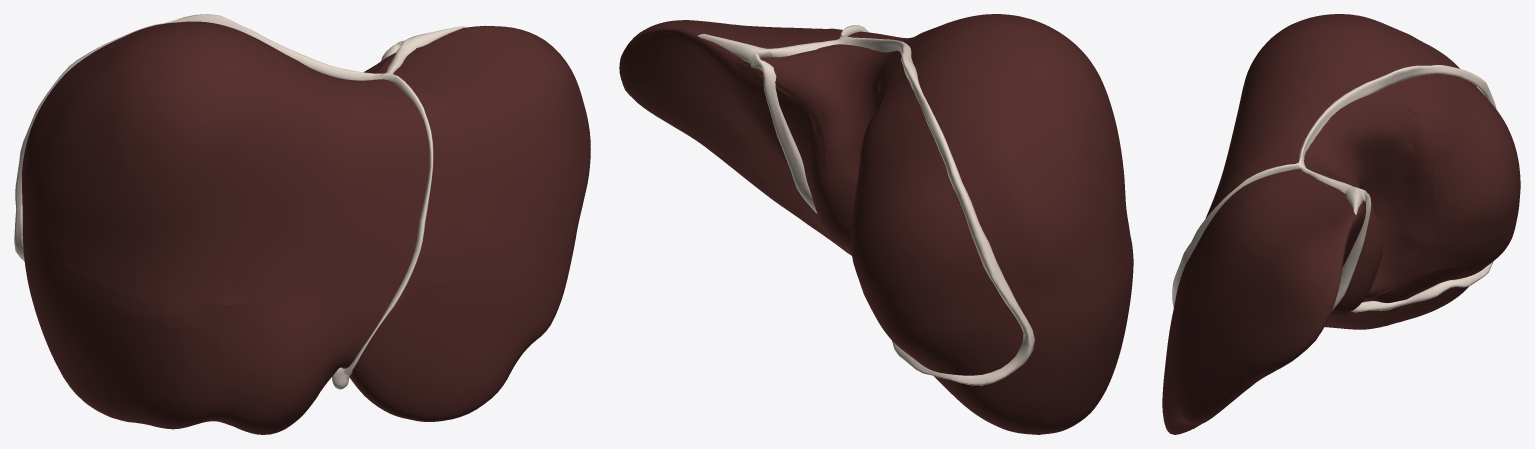
File: liver-female.glb
3 renders of one model, left to right at view 1: azimuth 30°, elevation 25°; view 2: azimuth 150°, elevation 25°; view 3: azimuth 270°, elevation 25°, orthographic. The views are drawn at different scales.
Visible parts, largest first — view 1: VH_F_capsule_of_the_liver, VH_F_left_superomedial_segment1, VH_F_left_inferomedial_segment, VH_F_right_anterosuperior_segment, VH_F_right_anteroinferior_segment, VH_F_coronary_ligament_of_liver, VH_F_left_superomedial_segment, VH_F_falciform_ligament; view 2: VH_F_capsule_of_the_liver, VH_F_bare_area_of_liver, VH_F_left_superomedial_segment, VH_F_coronary_ligament_of_liver, VH_F_diaphragmatic_surface_of_liver, VH_F_caudate_lobe, VH_F_right_posterosuperior_segment, VH_F_ligamentum_venosum, VH_F_gastric_impression_of_liver, VH_F_left_anterolateral_segment, VH_F_right_posteroinferior_segment, VH_F_right_anterosuperior_segment (+3 smaller); view 3: VH_F_capsule_of_the_liver, VH_F_bare_area_of_liver, VH_F_caudate_lobe, VH_F_coronary_ligament_of_liver, VH_F_left_superomedial_segment1, VH_F_right_posterosuperior_segment, VH_F_diaphragmatic_surface_of_liver, VH_F_left_superomedial_segment, VH_F_falciform_ligament, VH_F_ligamentum_venosum, VH_F_right_posteroinferior_segment, VH_F_suprarenal_impression_of_liver (+2 smaller).
Part boxes in pixels (left/top/right/bottom): VH_F_capsule_of_the_liver: left=22, top=21, right=590, bottom=434; VH_F_left_superomedial_segment1: left=222, top=55, right=433, bottom=305; VH_F_left_inferomedial_segment: left=208, top=284, right=398, bottom=433; VH_F_right_anterosuperior_segment: left=38, top=23, right=278, bottom=305; VH_F_right_anteroinferior_segment: left=39, top=264, right=223, bottom=426; VH_F_coronary_ligament_of_liver: left=14, top=14, right=413, bottom=261; VH_F_left_superomedial_segment: left=380, top=29, right=578, bottom=284; VH_F_falciform_ligament: left=344, top=73, right=433, bottom=375; VH_F_capsule_of_the_liver: left=619, top=14, right=1133, bottom=434; VH_F_bare_area_of_liver: left=749, top=47, right=1023, bottom=375; VH_F_left_superomedial_segment: left=622, top=22, right=840, bottom=178; VH_F_coronary_ligament_of_liver: left=767, top=36, right=1034, bottom=385; VH_F_diaphragmatic_surface_of_liver: left=619, top=30, right=996, bottom=425; VH_F_caudate_lobe: left=779, top=47, right=899, bottom=250; VH_F_right_posterosuperior_segment: left=851, top=61, right=1101, bottom=331; VH_F_ligamentum_venosum: left=751, top=53, right=817, bottom=213; VH_F_gastric_impression_of_liver: left=668, top=74, right=851, bottom=255; VH_F_left_anterolateral_segment: left=716, top=151, right=825, bottom=233; VH_F_right_posteroinferior_segment: left=866, top=299, right=1101, bottom=434; VH_F_right_anterosuperior_segment: left=897, top=30, right=1132, bottom=282; VH_F_capsule_of_the_liver: left=1162, top=14, right=1471, bottom=434; VH_F_bare_area_of_liver: left=1306, top=74, right=1520, bottom=299; VH_F_caudate_lobe: left=1305, top=98, right=1439, bottom=316; VH_F_coronary_ligament_of_liver: left=1298, top=65, right=1496, bottom=312; VH_F_left_superomedial_segment1: left=1199, top=62, right=1323, bottom=240; VH_F_right_posterosuperior_segment: left=1393, top=31, right=1518, bottom=244; VH_F_diaphragmatic_surface_of_liver: left=1170, top=201, right=1493, bottom=433; VH_F_left_superomedial_segment: left=1176, top=172, right=1365, bottom=381; VH_F_falciform_ligament: left=1172, top=162, right=1298, bottom=307; VH_F_ligamentum_venosum: left=1331, top=189, right=1371, bottom=311; VH_F_right_posteroinferior_segment: left=1386, top=226, right=1513, bottom=325; VH_F_suprarenal_impression_of_liver: left=1399, top=267, right=1471, bottom=289.
Size of the model in its own units: 0.2471 by 0.17 by 0.1663.
